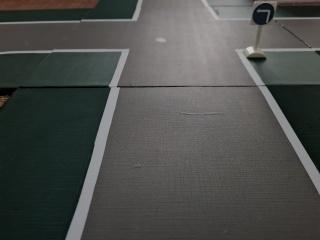left: (251, 2, 276, 27)
